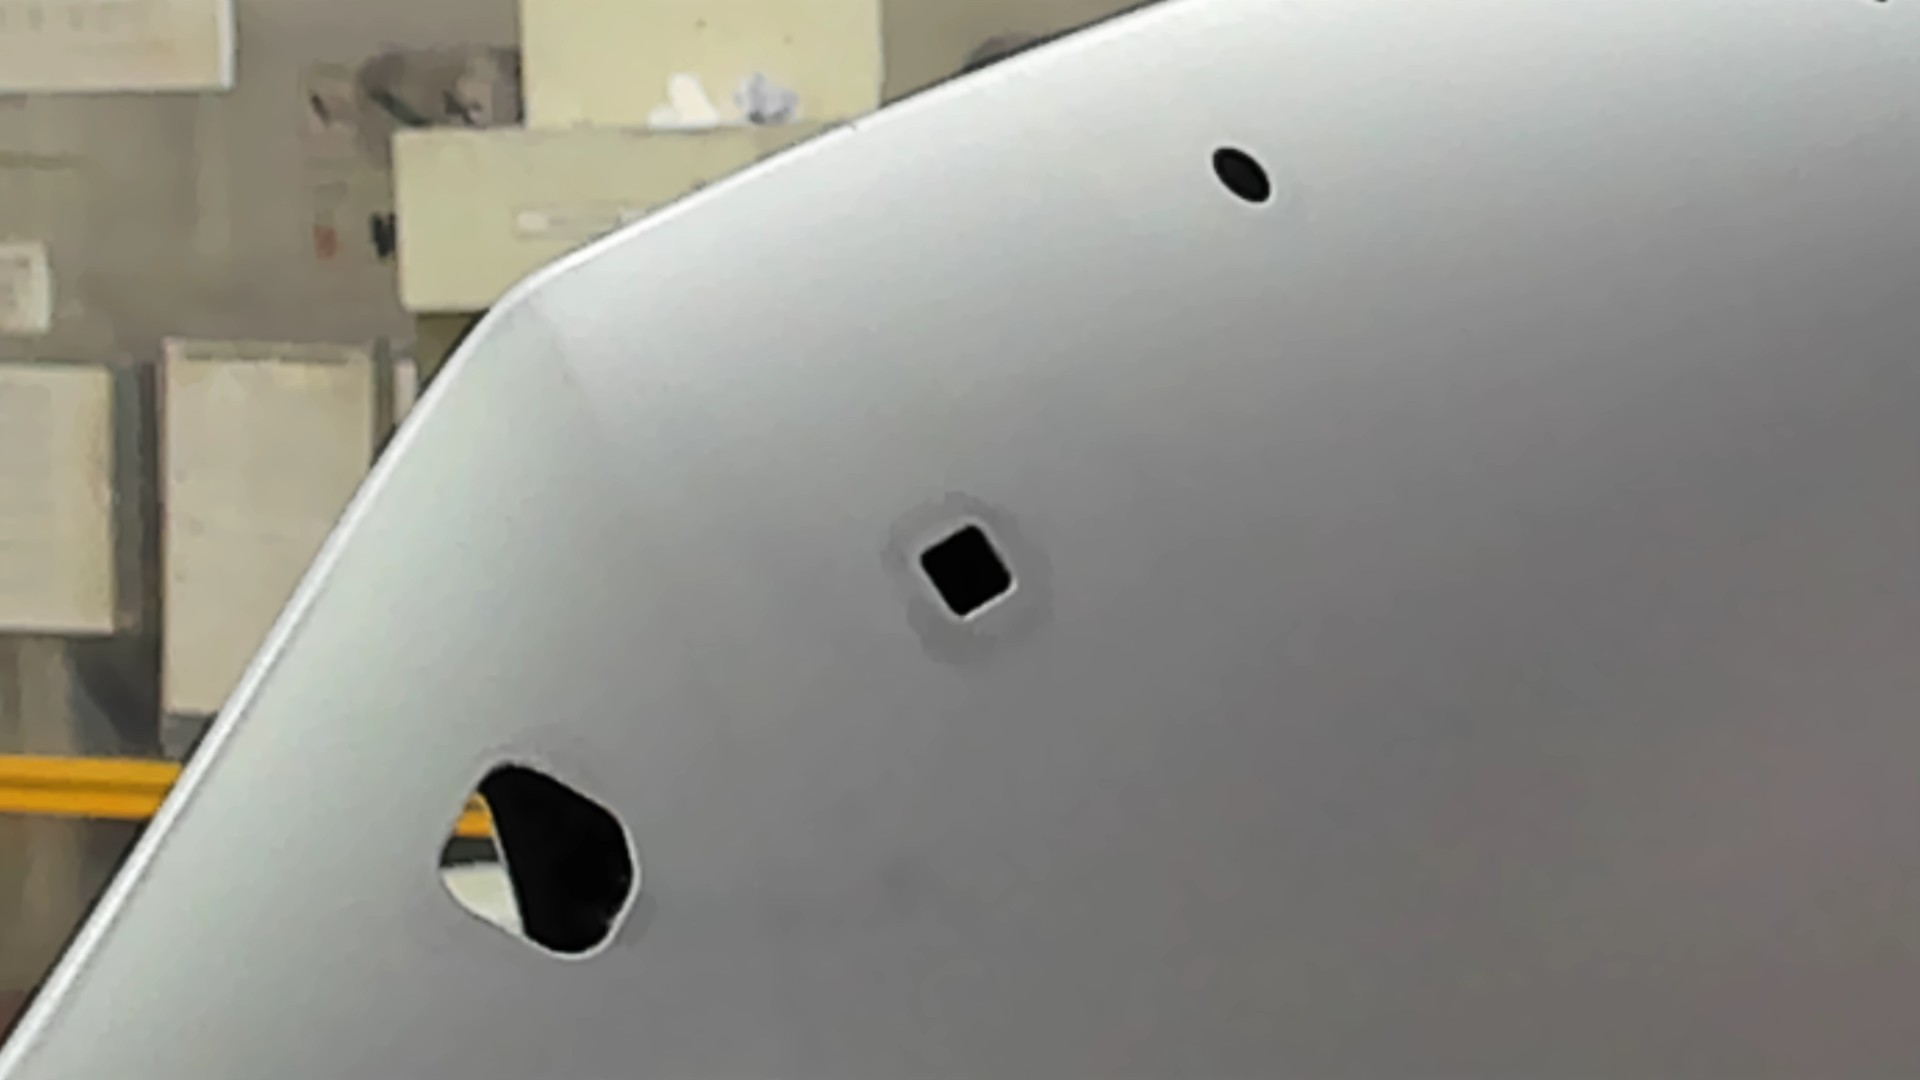chico: (1211, 145, 1275, 206)
grande: (436, 758, 642, 963)
mediano: (915, 521, 1019, 621)
